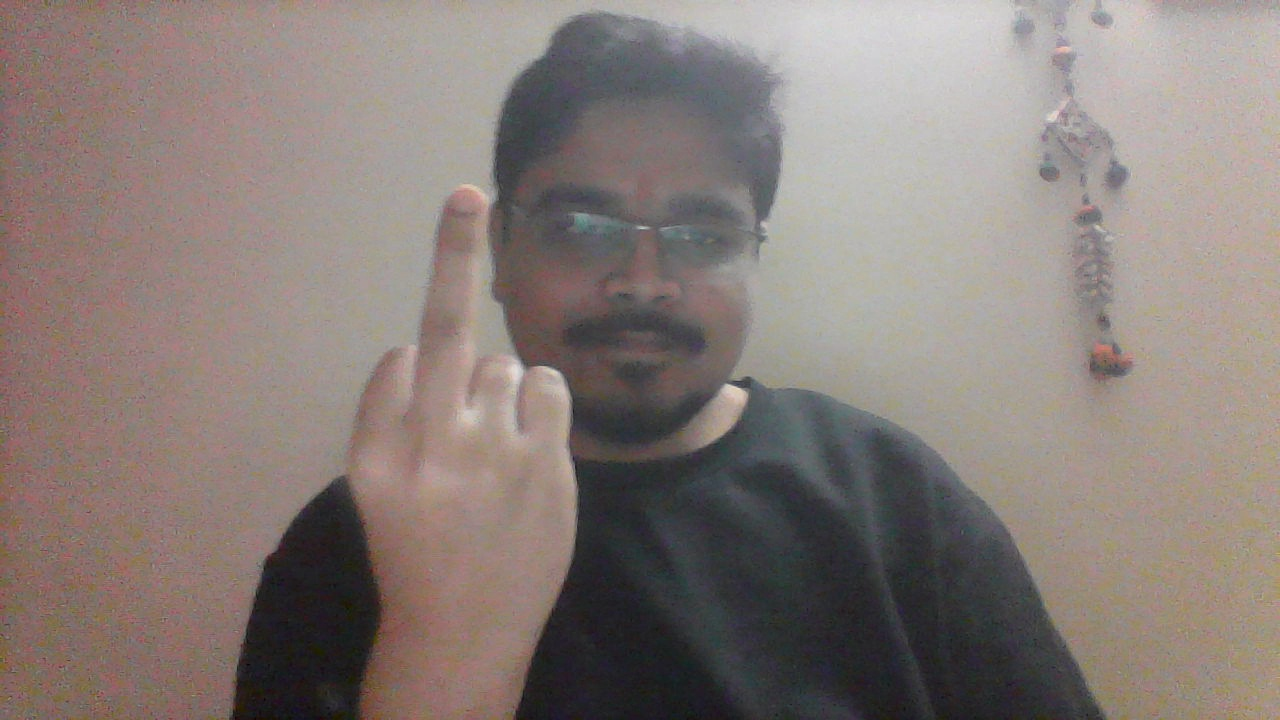Fuck Off: (344, 182, 585, 689)
